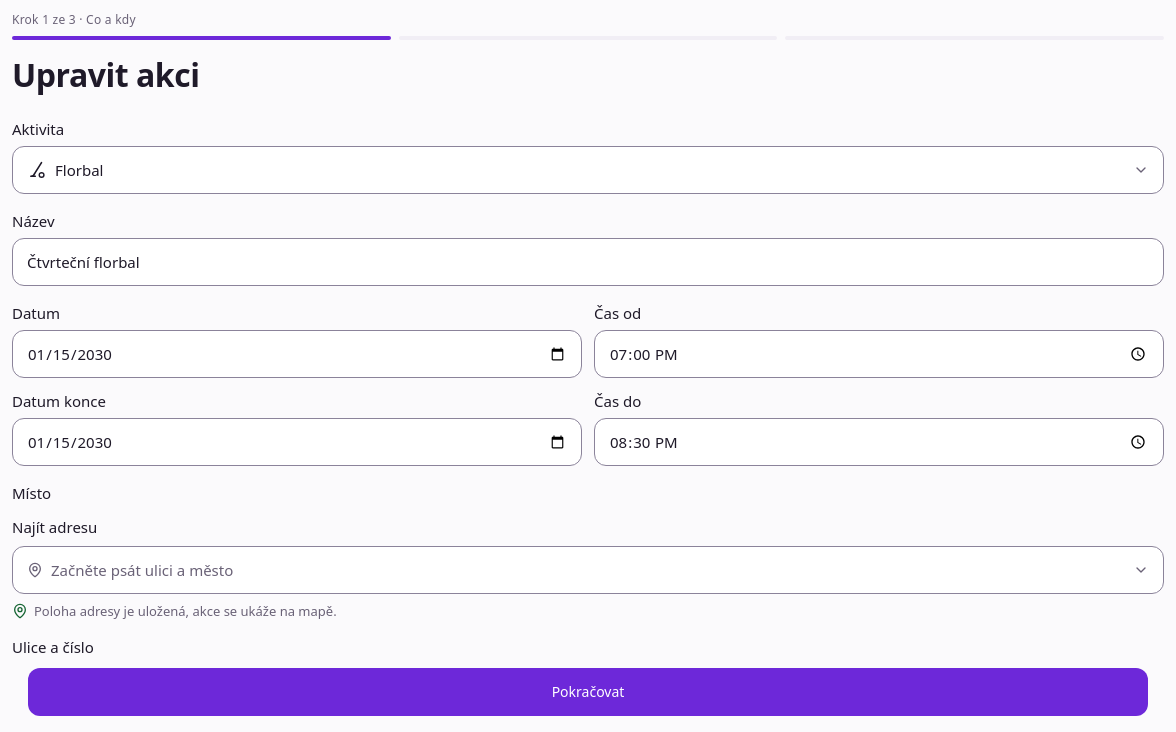
Test: EventForm editing an event › refuses a maximum below the seats already taken
Click the button "Pokračovat" at (588, 692), box [28,668,1148,716]
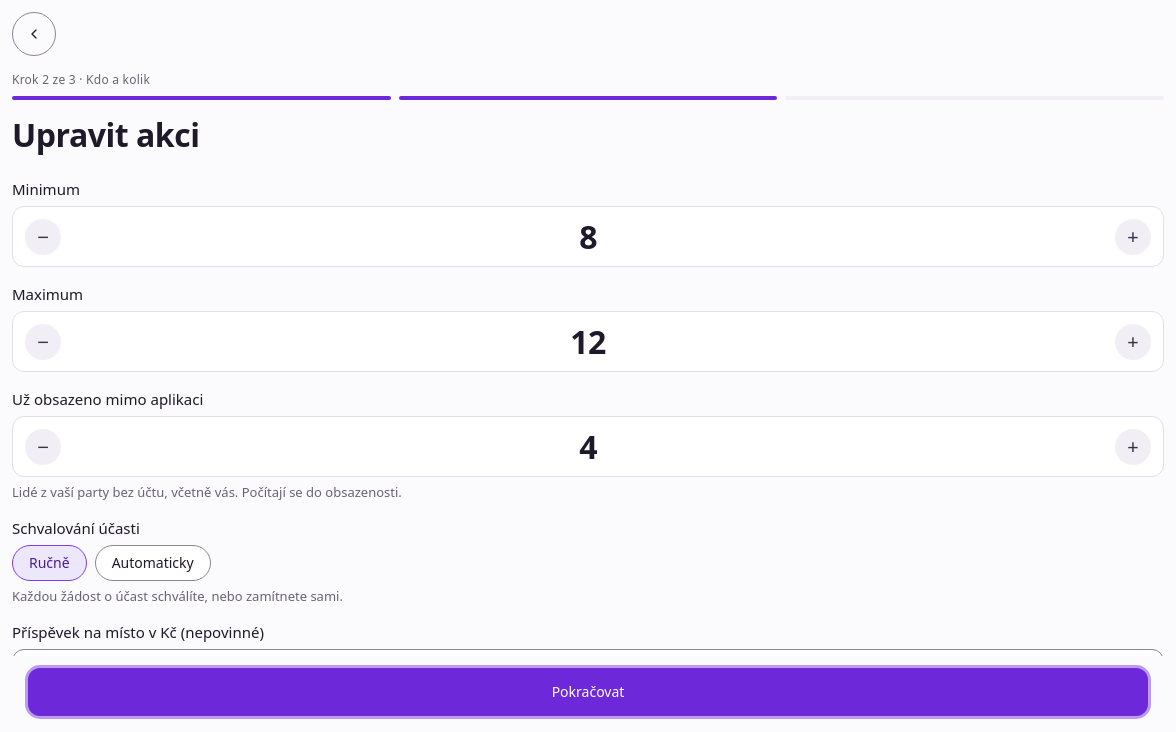
Click the button "−" below "Maximum" at (43, 342), box [25,324,61,360]
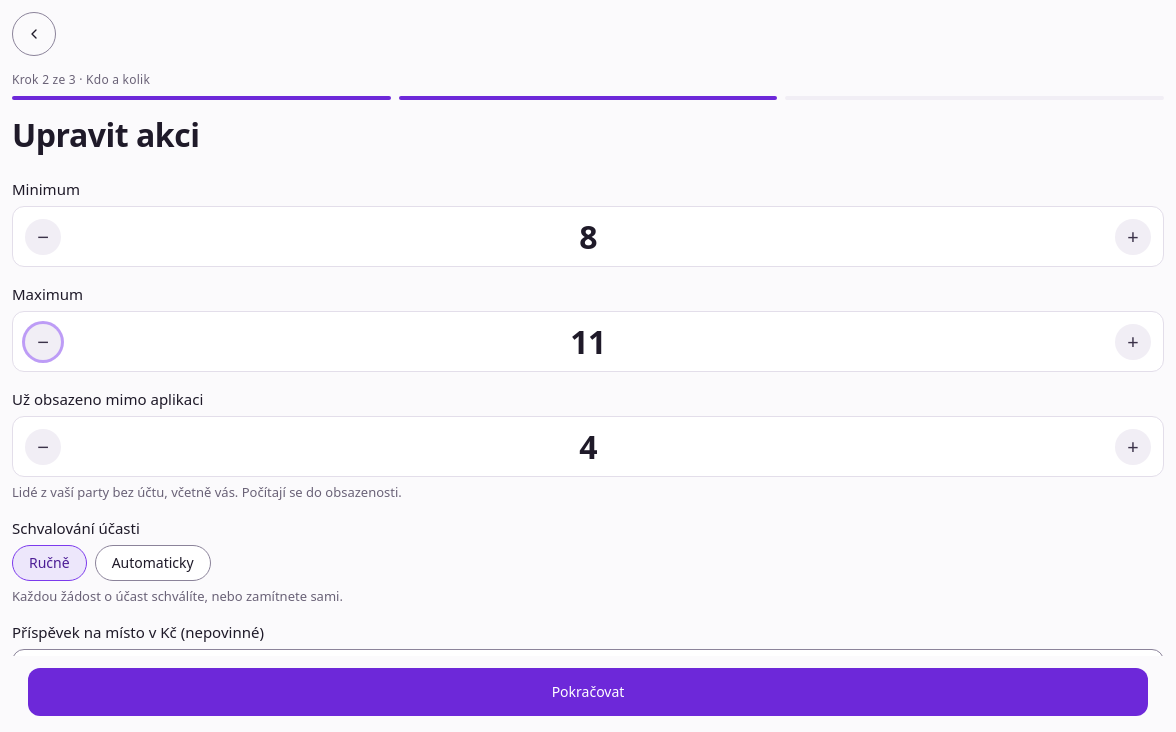
Click the button "−" below "Maximum" at (43, 342), box [25,324,61,360]
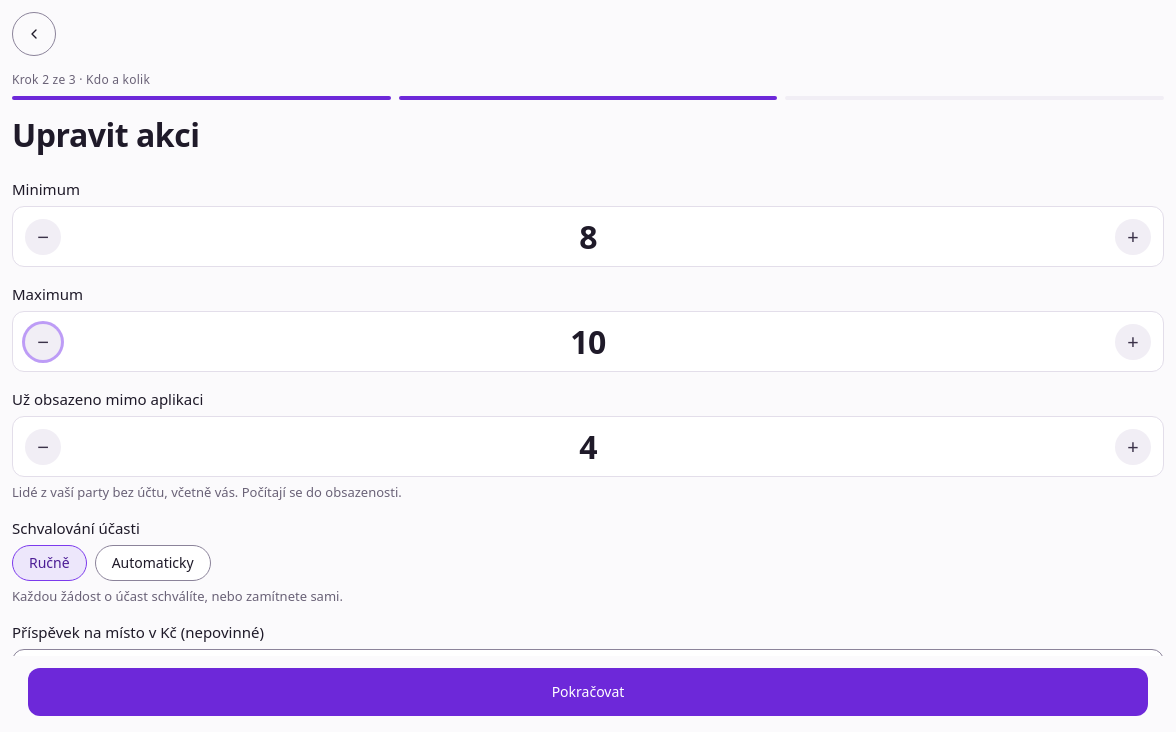
Click the button "−" below "Maximum" at (43, 342), box [25,324,61,360]
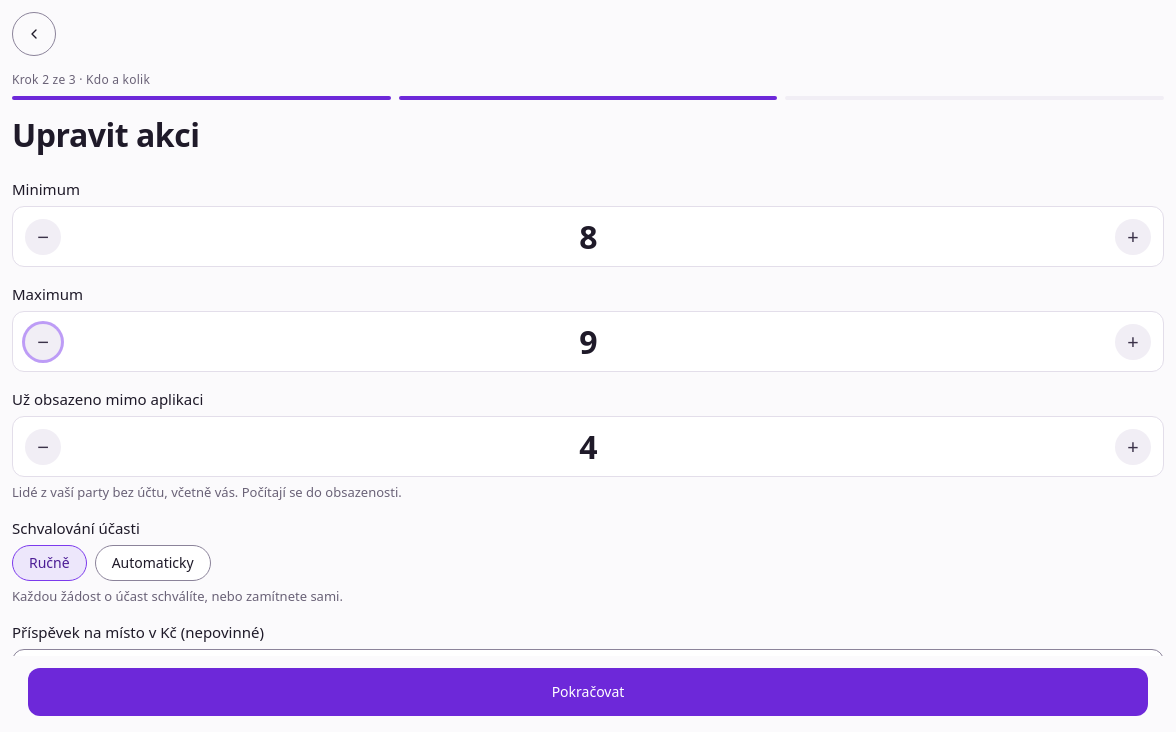
Click the button "Pokračovat" at (588, 692), box [28,668,1148,716]
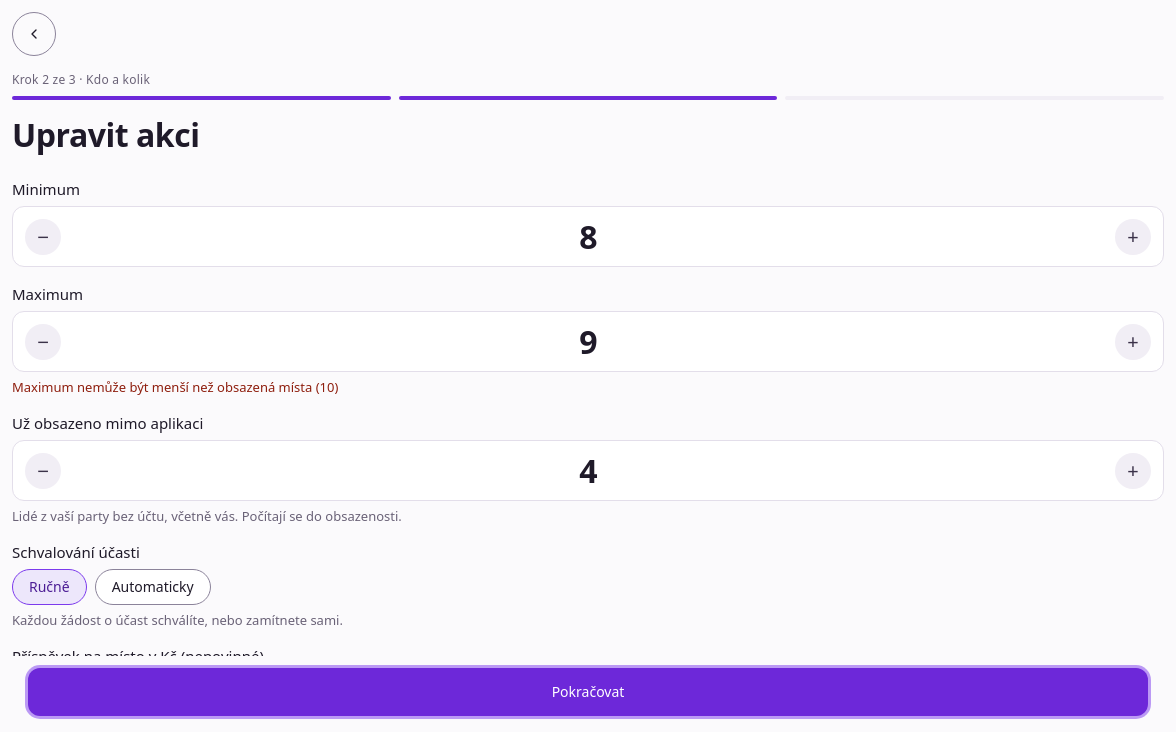
Expected: the text "Maximum nemůže být menší než obsazená místa (10)" is shown, [12,378,338,396]
